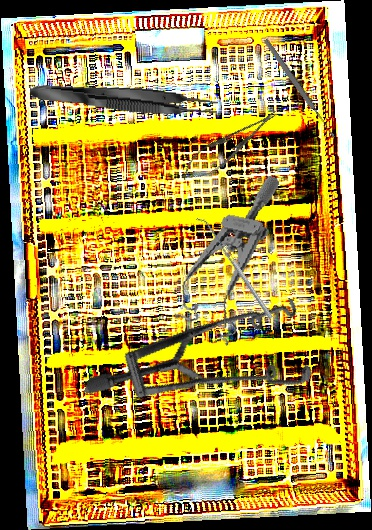Needle Holder: (175, 101, 285, 190)
Spatula Surgical: (196, 214, 273, 322)
Speculum: (83, 241, 335, 466), (171, 162, 280, 350)
Surgical Spoon: (262, 37, 337, 140)
Tissue Forceps: (29, 77, 219, 121)
